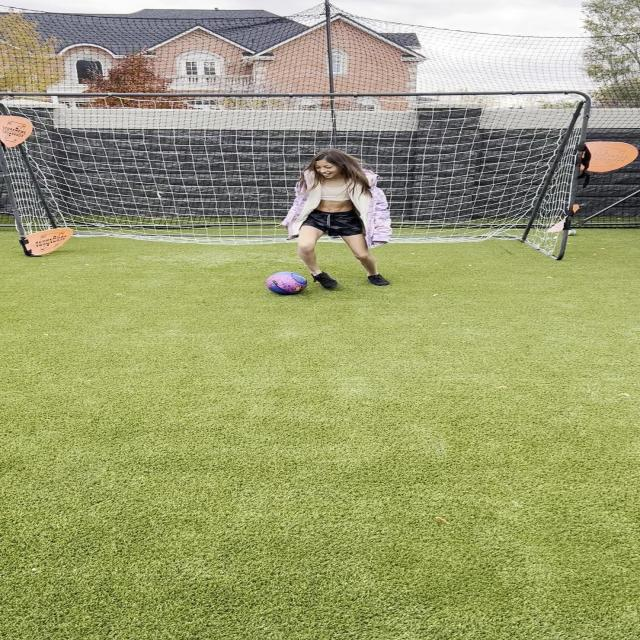Soccer Ball: (266, 272, 307, 296)
